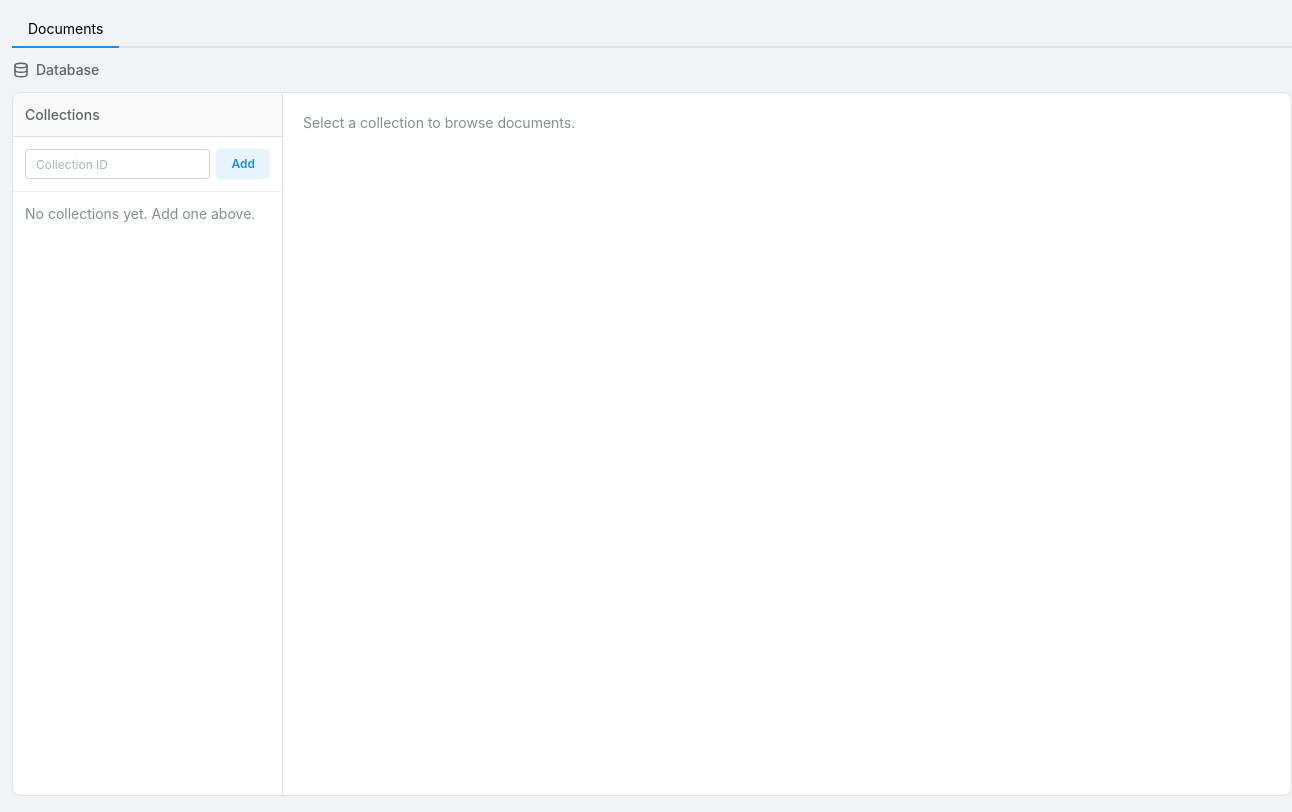
Test: adding a collection queries it and lists document ids
Type "users" into the field with placeholder "Collection ID" at {"x": 118, "y": 164}, box left=25, top=149, right=210, bottom=179
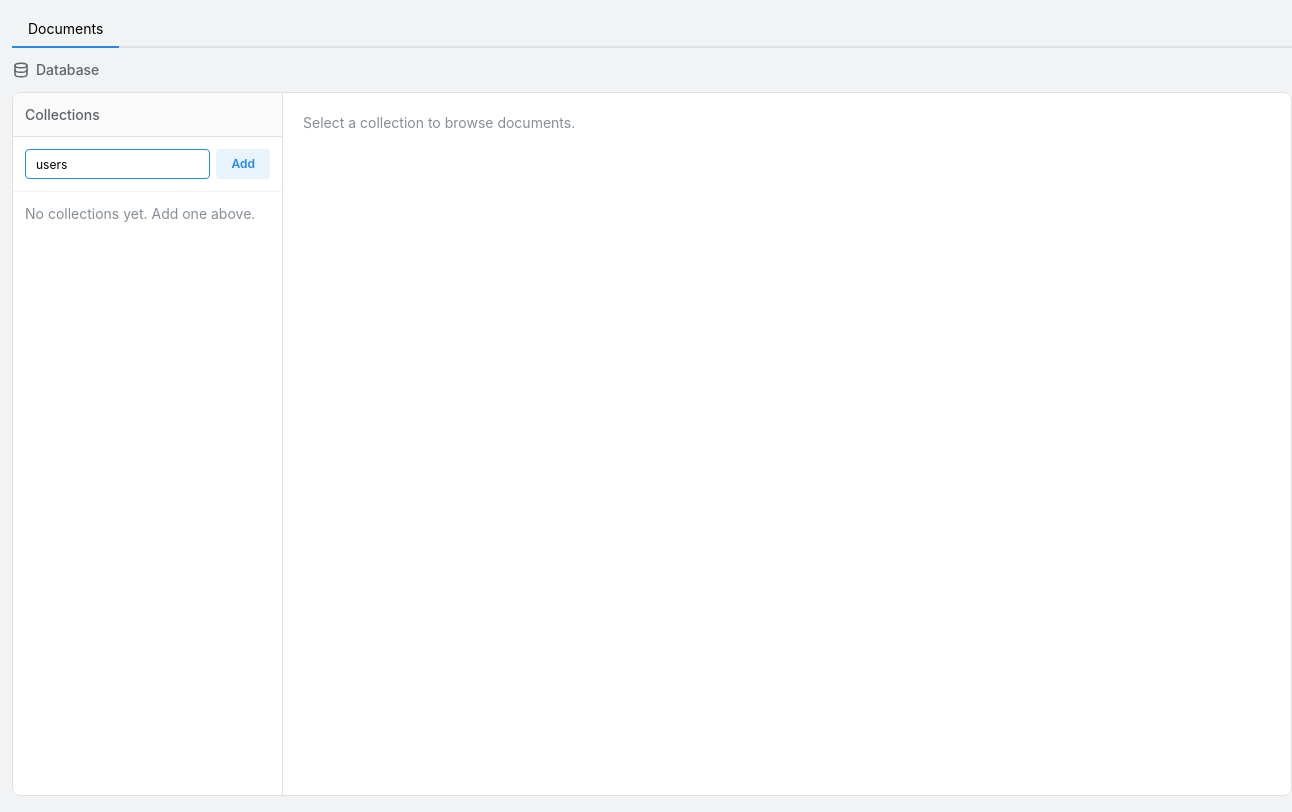
Click the button "Add" at {"x": 243, "y": 164}, box left=216, top=149, right=270, bottom=179
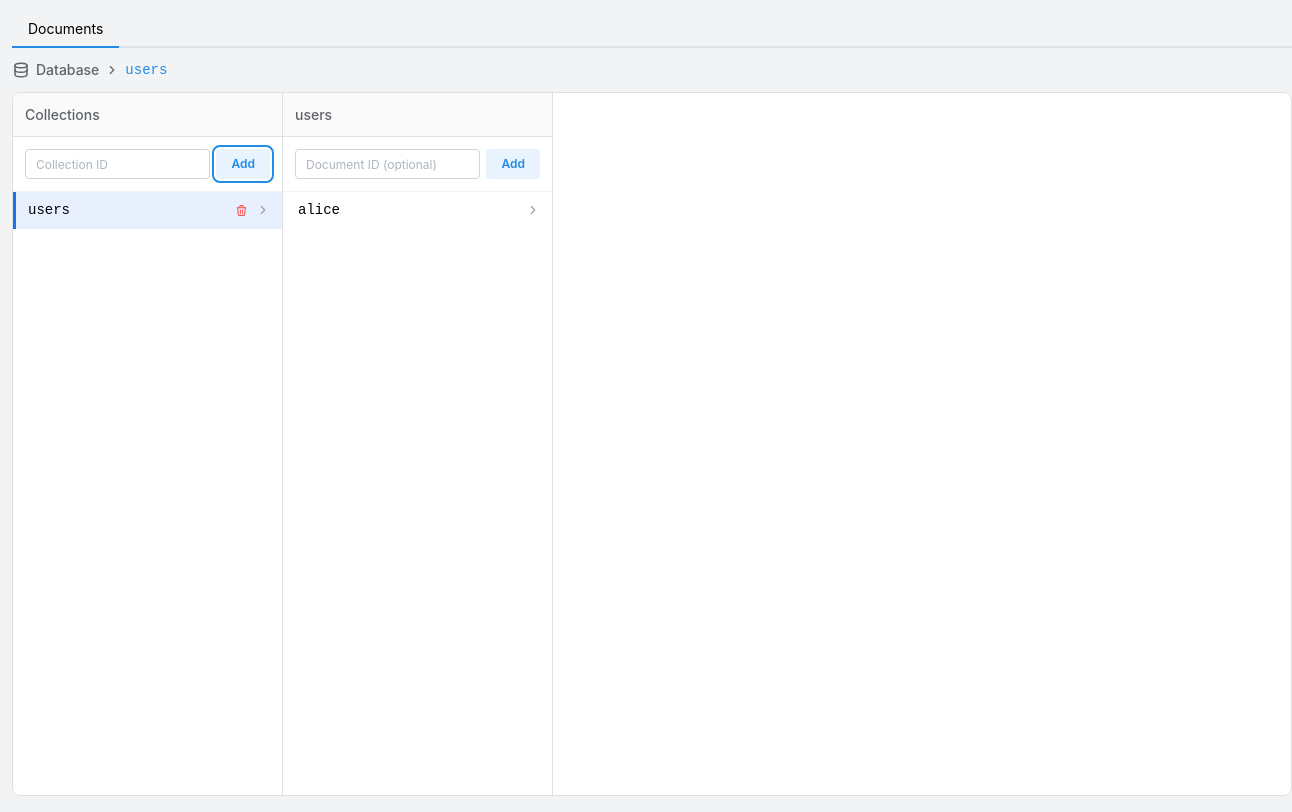
Expected: the button "alice" is shown, left=298, top=202, right=540, bottom=218
